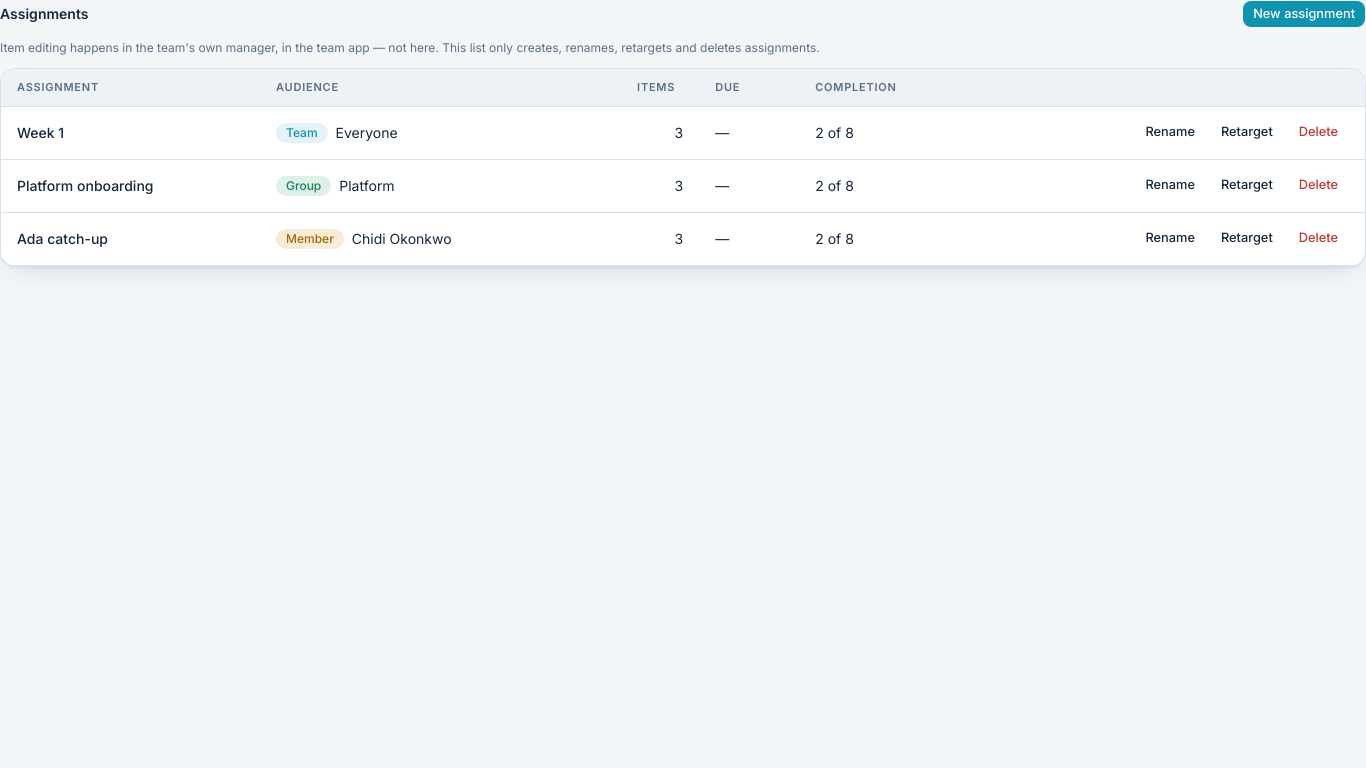
AssignmentsTab › the create dialog states plainly that it emails the audience
The width and height of the screenshot is (1366, 768).
Click the button "New assignment" at (1304, 14), box [1242,0,1365,28]
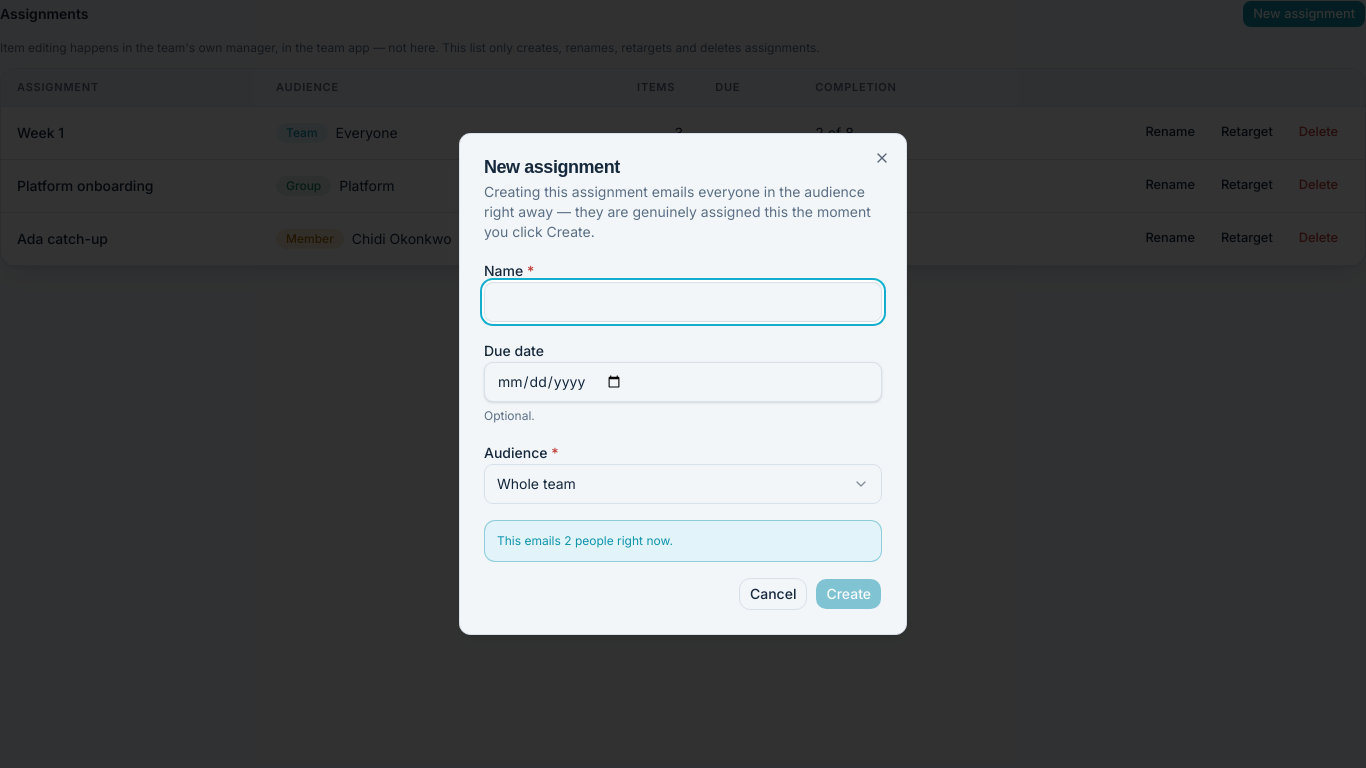
Check: the text "emails everyone in the audience" is shown, box [484,183,871,240]
